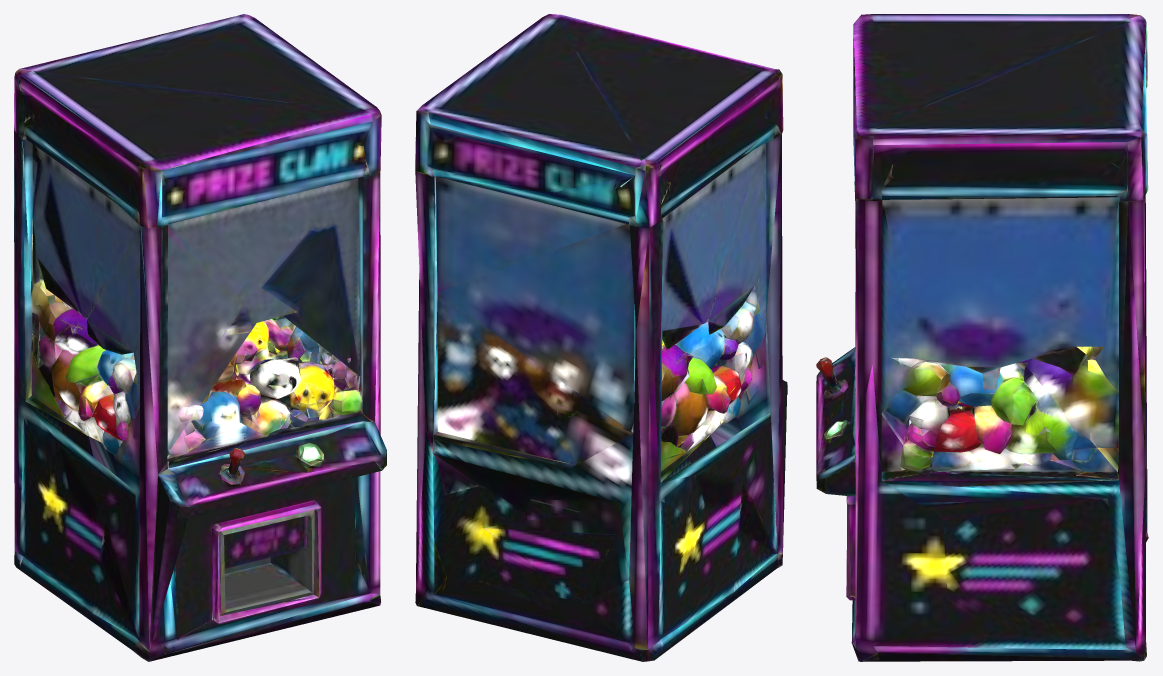
The model's file is claw2.glb.
3 renders of one model, left to right at view 1: azimuth 30°, elevation 25°; view 2: azimuth 150°, elevation 25°; view 3: azimuth 270°, elevation 25°, orthographic. The views are drawn at different scales.
Parts seen in each view (by area): view 1: Mesh_0; view 2: Mesh_0; view 3: Mesh_0.
Boxes of the visible parts, <box> form: Mesh_0: <box>14,14,386,661</box>; Mesh_0: <box>415,14,787,661</box>; Mesh_0: <box>816,14,1148,661</box>.
Size of the model in its own units: 0.984 by 1.9 by 1.08.
1 material, 1 textured.
